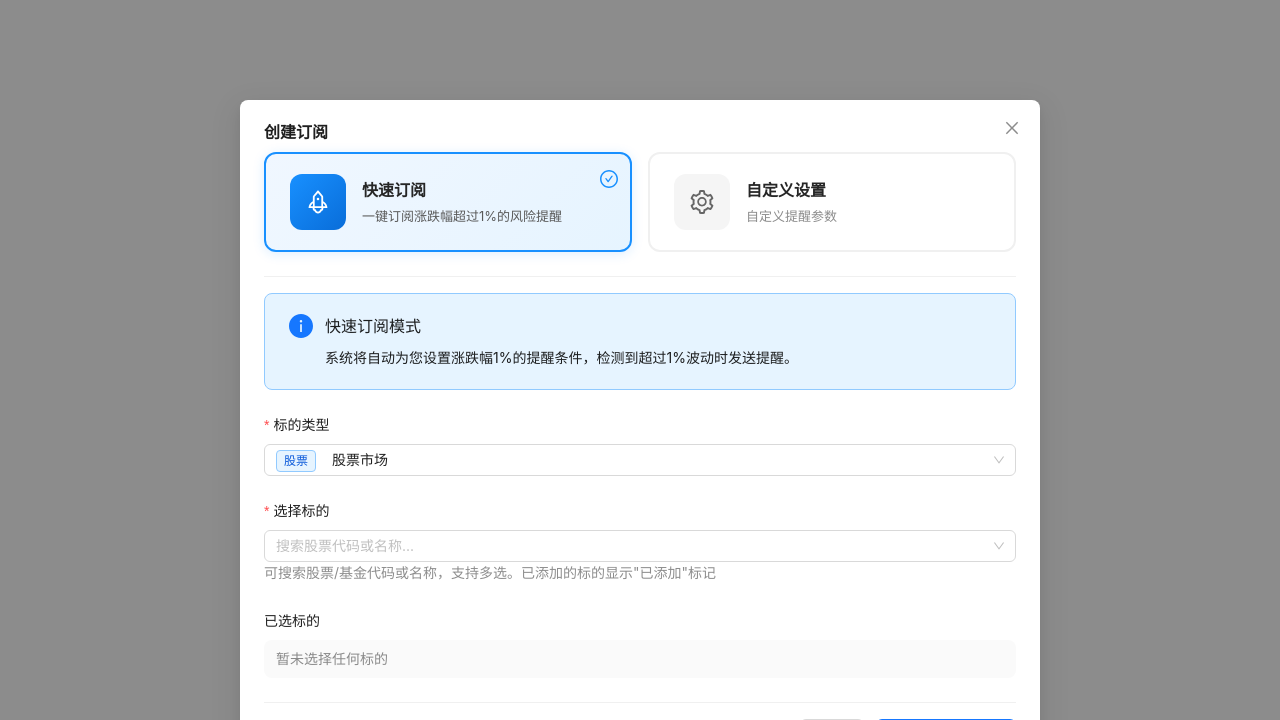
SubscriptionCreate › Custom Mode › should show target price input for price alerts in custom mode
Note: Click custom mode card
What coordinates should you click on to do the following:
click the text "自定义设置"
I would click on:
 (786, 190)
Its box is [746,180,826,200].
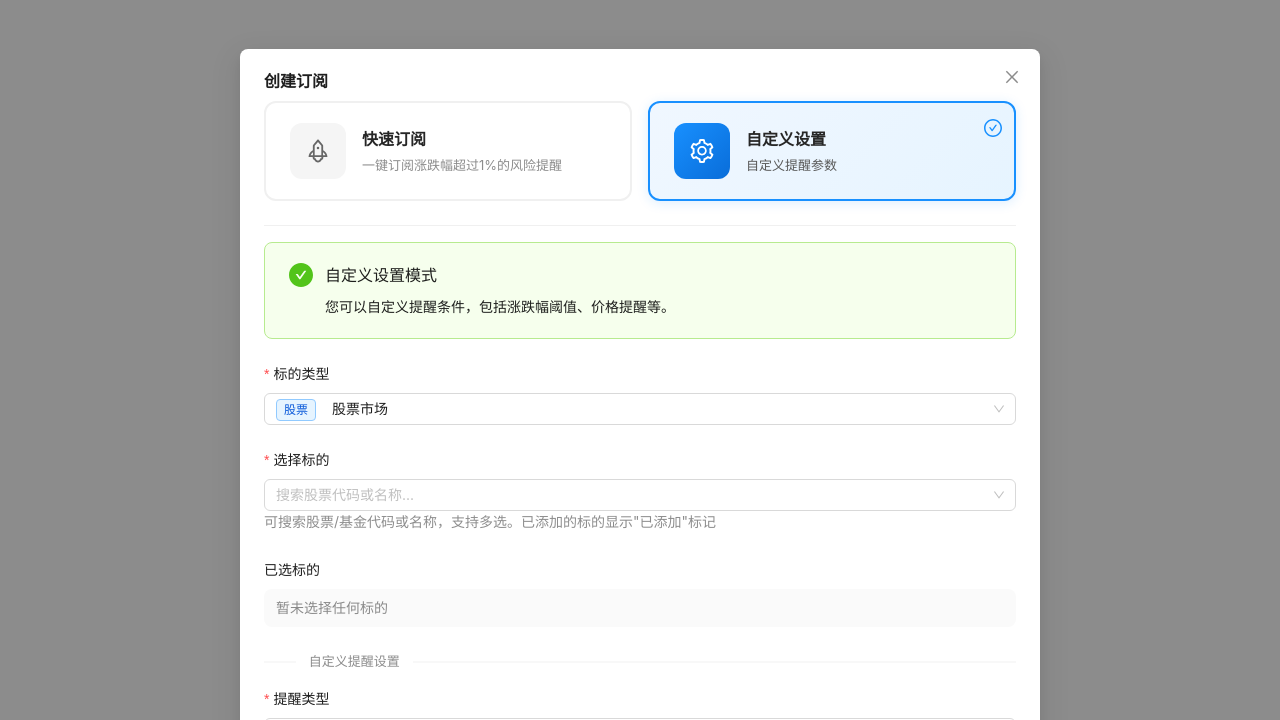
Check: the search field "提醒类型" is shown
Note: Select price above alert type
What coordinates should you click on to do the following:
click the dropdown labelled "提醒类型"
I would click on:
 (304, 699)
Its box is [264,688,344,710].
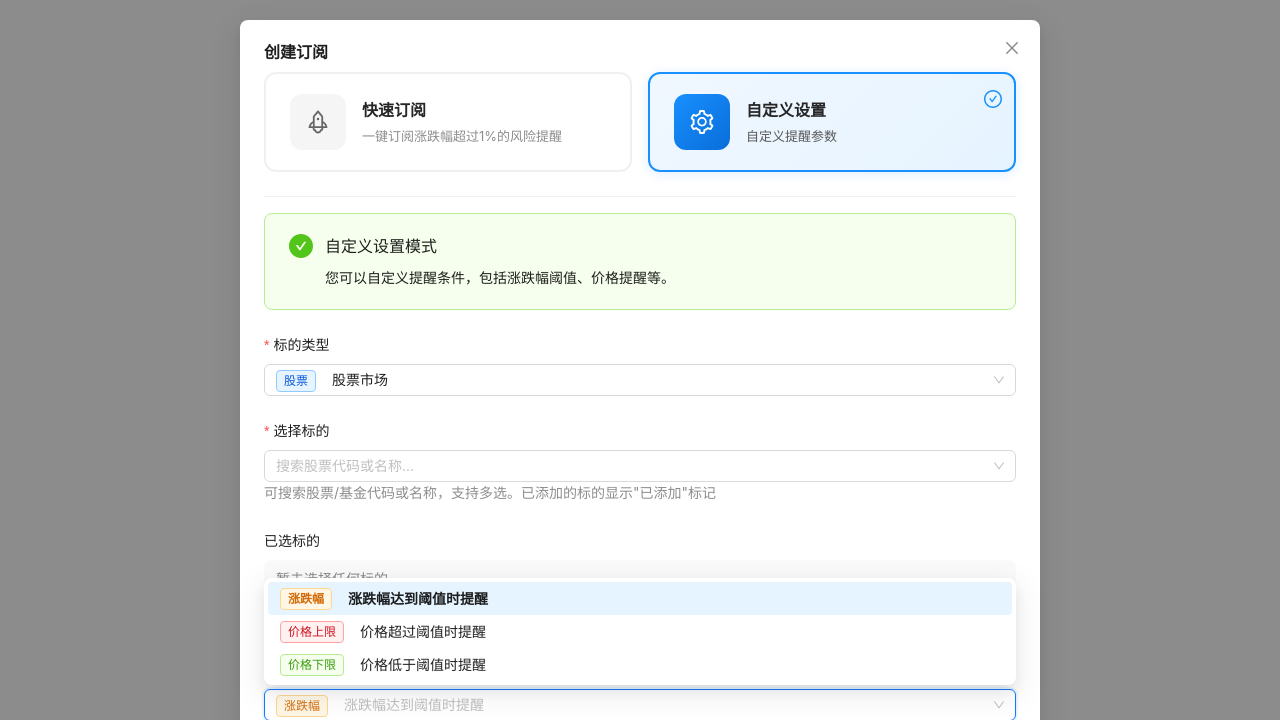
Check: the text "价格上限" is shown
What coordinates should you click on to do the following:
click the text "价格上限"
I would click on:
 (312, 632)
Its box is [280,621,344,643].
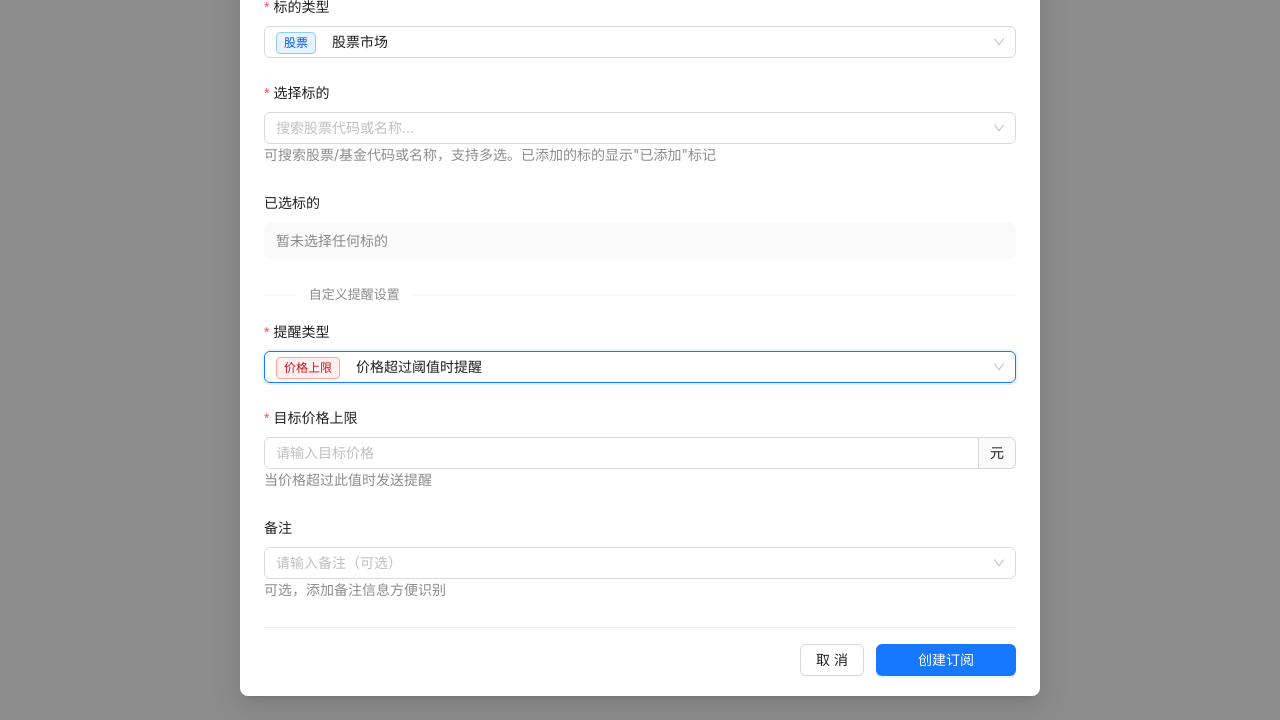
Check: the text "目标价格上限" is shown, box [264,407,372,429]
